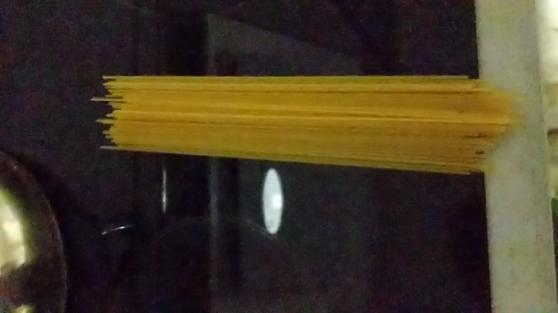spaghetti: (85, 62, 534, 184)
